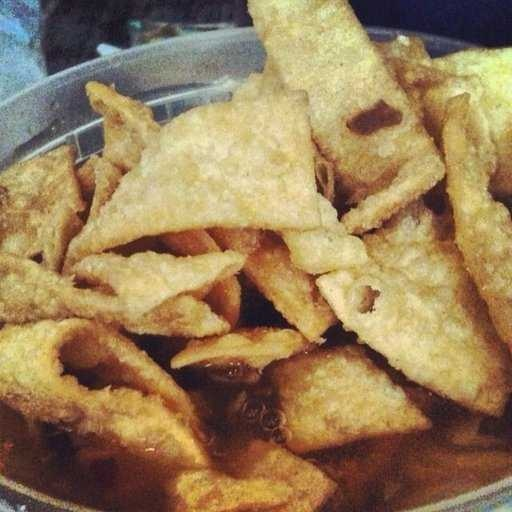soup: (12, 32, 468, 491)
